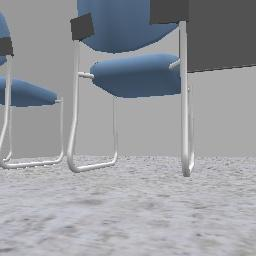scaun: (67, 0, 194, 176), (0, 12, 63, 168)
